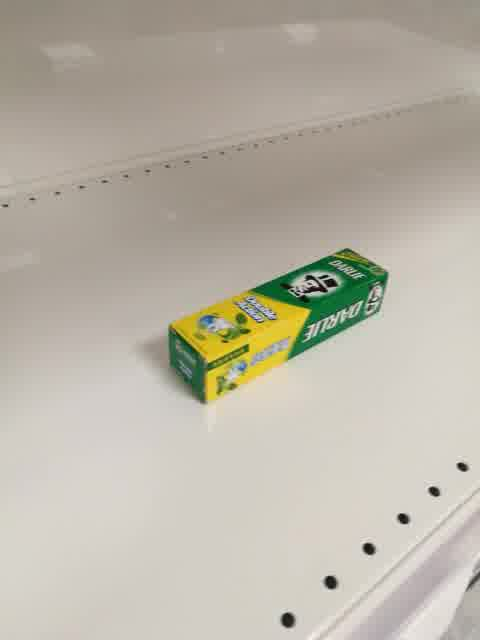toothpaste: (166, 247, 391, 406)
